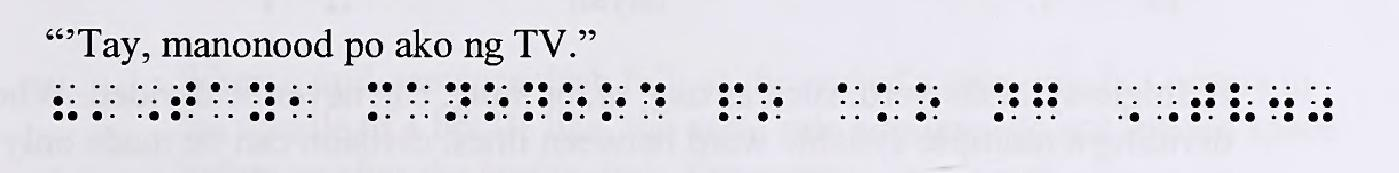T: (170, 79, 198, 122), (1191, 81, 1215, 124)
a: (209, 79, 236, 122), (837, 80, 863, 124), (406, 81, 431, 122)
capital: (1156, 80, 1181, 122), (135, 82, 161, 122), (1117, 80, 1140, 125)
d: (639, 79, 666, 122)
g: (1031, 79, 1059, 125)
k: (875, 79, 902, 125)
m: (365, 80, 395, 124)
n: (445, 80, 473, 124), (522, 79, 550, 122), (995, 82, 1020, 125)
o: (912, 79, 943, 126), (600, 80, 629, 125), (558, 80, 588, 123), (757, 80, 785, 125), (486, 80, 510, 124)
p: (717, 80, 745, 124)
v: (1230, 82, 1255, 123)
y: (248, 80, 275, 124)
